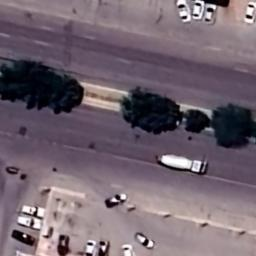others: (156, 152, 209, 176)
pickup: (20, 202, 44, 218), (18, 216, 40, 230)
sedan: (10, 228, 37, 246), (104, 193, 128, 209), (134, 232, 155, 250), (175, 0, 192, 22), (244, 2, 256, 23), (192, 0, 204, 20), (204, 4, 216, 24), (85, 240, 97, 256), (98, 240, 109, 256), (122, 244, 134, 256)
